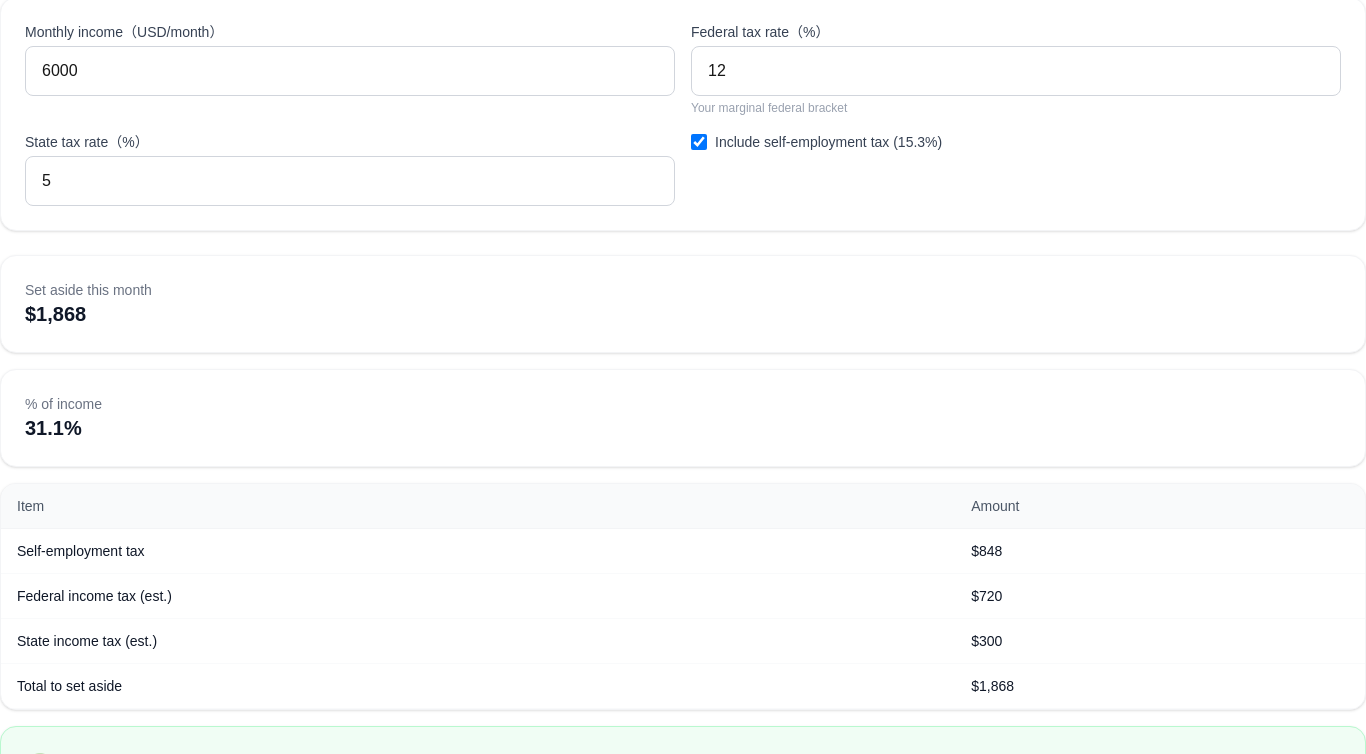
Scenario: ToolRenderer › toggle 關掉 self-employment tax 後 verdict 變成 neutral
Click the checkbox labelled "Include self-employment tax (15.3%)" at (699, 142), box [691,134,707,150]
(page scrolled)
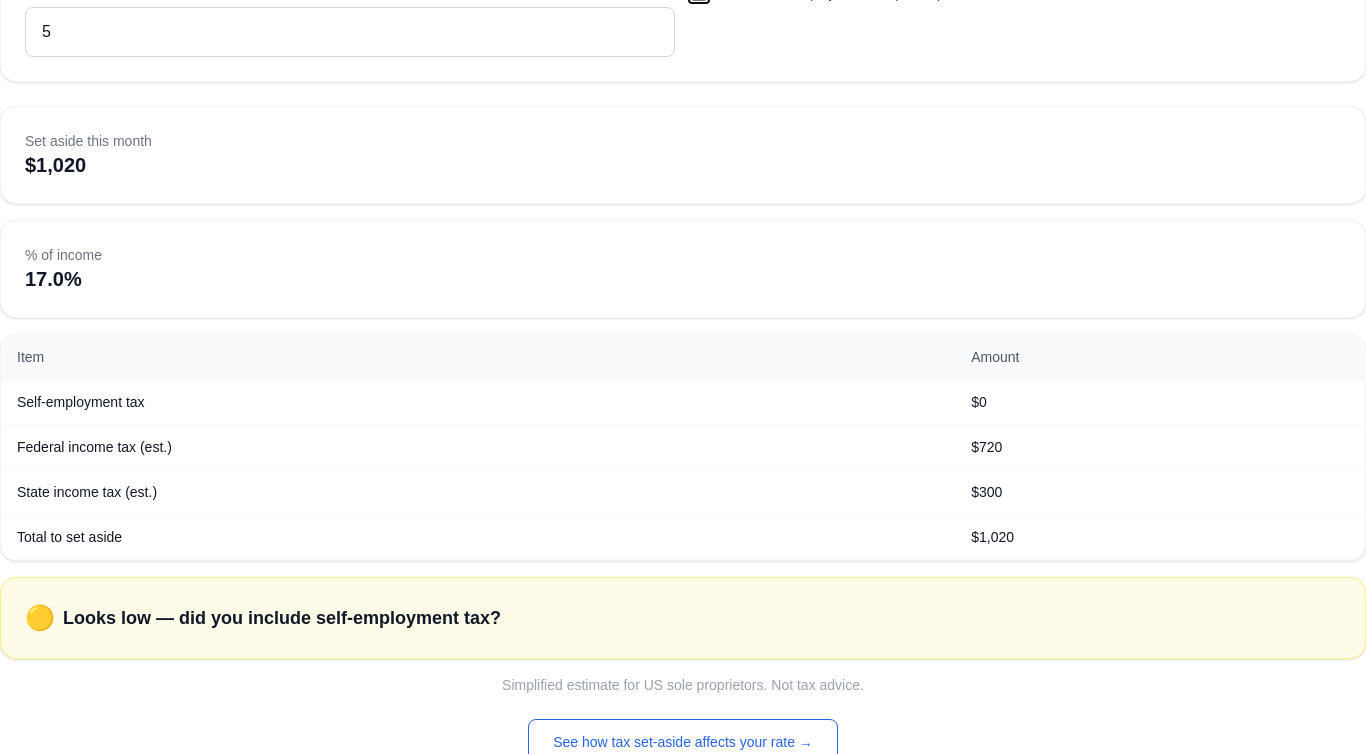
Now the text "Looks low — did you include self-employment tax?" is shown, box [63,604,501,632]
